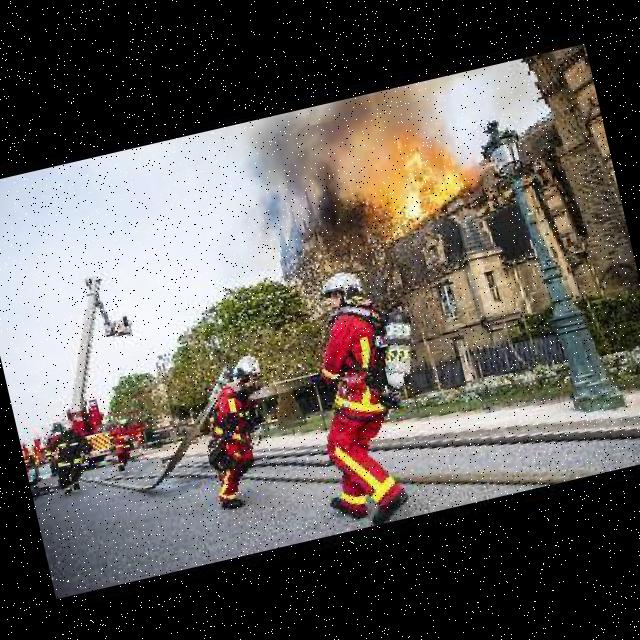fire: (275, 90, 491, 259)
